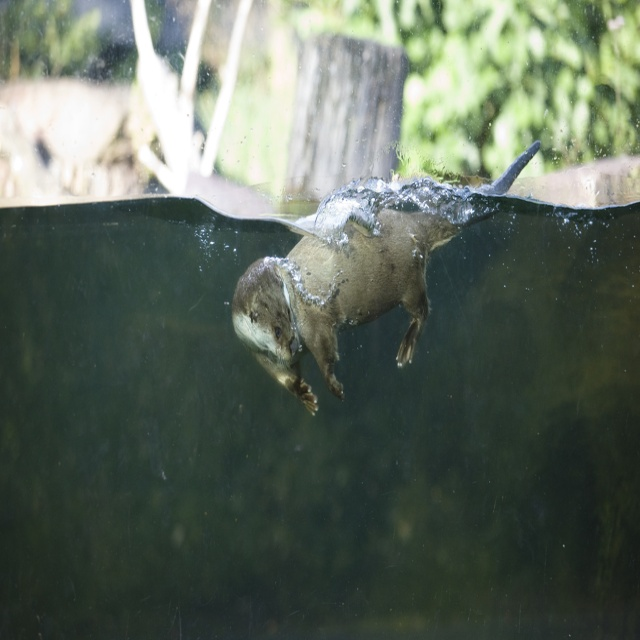Otter: (230, 135, 542, 418)
